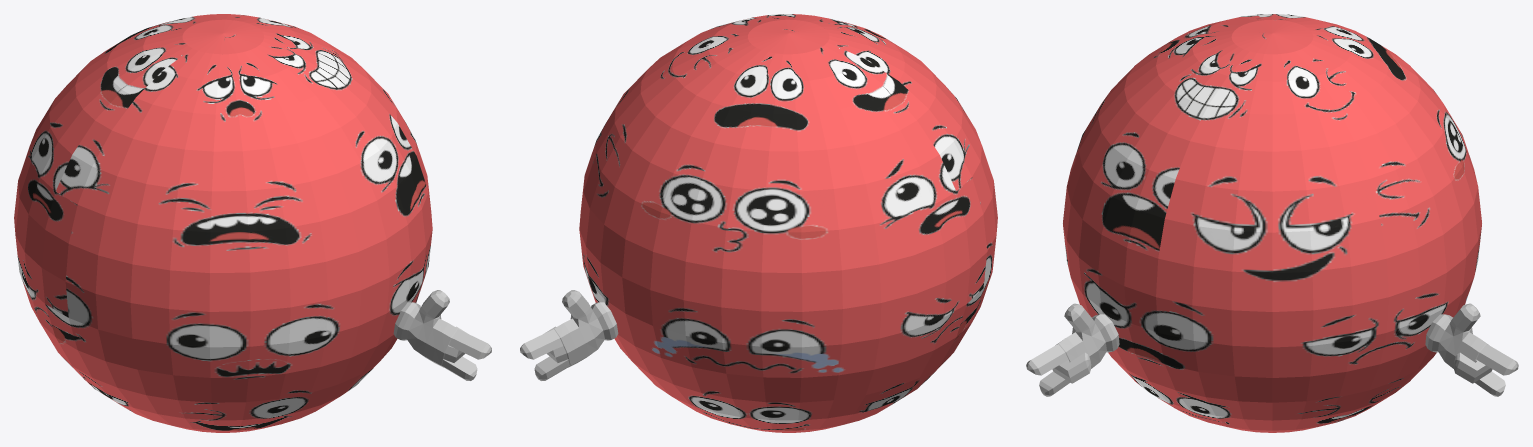
Rendered from M_ElDon.001.obj.
The picture shows the model from 3 angles, left to right: view 1: azimuth 30°, elevation 25°; view 2: azimuth 150°, elevation 25°; view 3: azimuth 270°, elevation 25°; orthographic projection.
Parts seen in each view (by area): view 1: ElDon.001; view 2: ElDon.001; view 3: ElDon.001.
Part boxes in pixels (bbox=[...]): ElDon.001: bbox=[14, 14, 491, 432]; ElDon.001: bbox=[520, 14, 997, 432]; ElDon.001: bbox=[1026, 14, 1518, 432].
Bounding box in the file's own units: 2 × 2 × 2.35.
